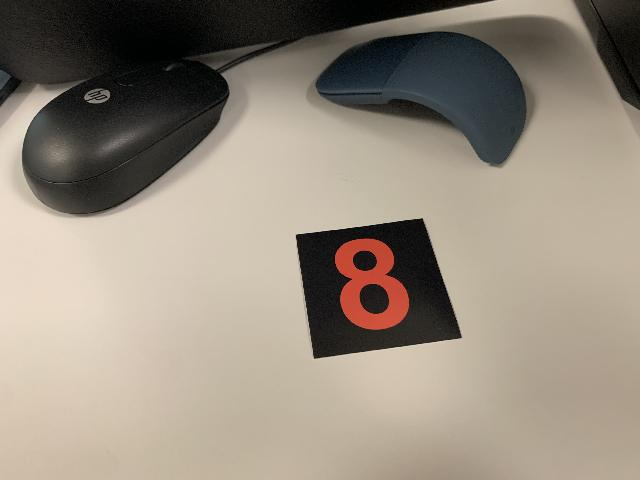eight: (290, 217, 465, 359)
